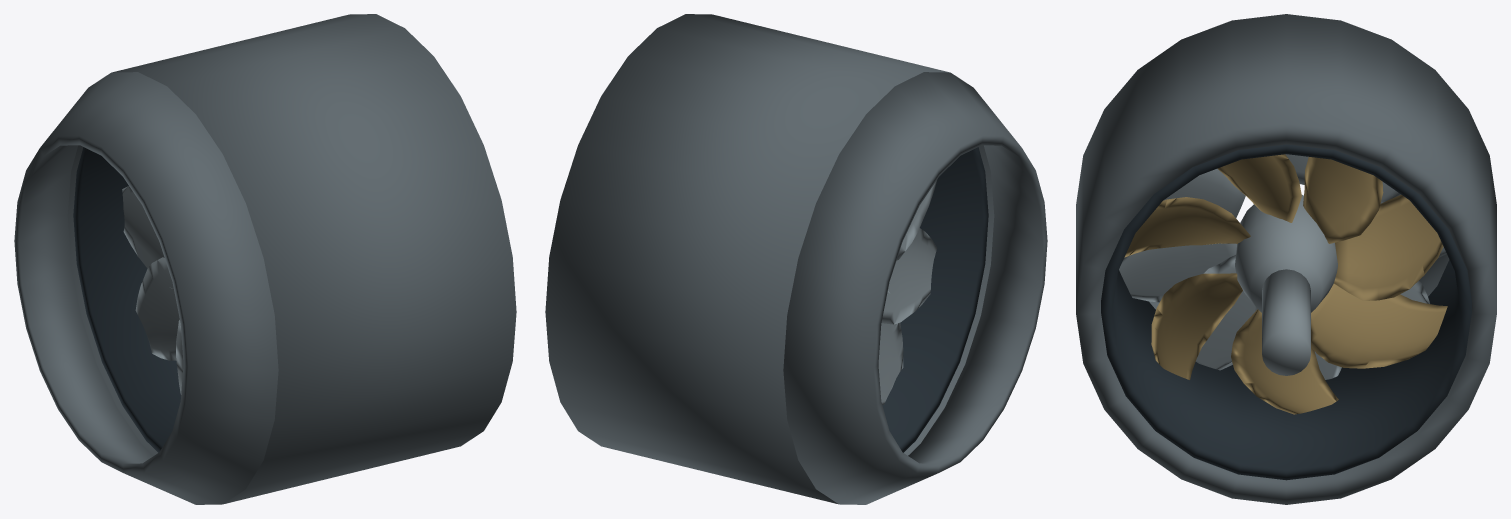
File: FR_PJ_Suffren_LOD1.fbx
3 views of the same model, side by side, from view 1: azimuth 30°, elevation 25°; view 2: azimuth 150°, elevation 25°; view 3: azimuth 270°, elevation 25° (orthographic). The views are drawn at different scales.
Visible parts, largest first — view 1: FR_PJ_Suffren_LOD1_Housing.001, FR_PJ_Suffren_LOD1_Nozzle.001, FR_PJ_Suffren_LOD1_Lining.001, FR_PJ_Suffren_LOD1_Stator_08.001, FR_PJ_Suffren_LOD1_Stator_00.001; view 2: FR_PJ_Suffren_LOD1_Housing.001, FR_PJ_Suffren_LOD1_Nozzle.001, FR_PJ_Suffren_LOD1_Lining.001, FR_PJ_Suffren_LOD1_Stator_05.001, FR_PJ_Suffren_LOD1_Stator_06.001, FR_PJ_Suffren_LOD1_Stator_04.001; view 3: FR_PJ_Suffren_LOD1_Housing.001, FR_PJ_Suffren_LOD1_Lining.001, FR_PJ_Suffren_LOD1_Rotor_06.001, FR_PJ_Suffren_LOD1_Rotor_00.001, FR_PJ_Suffren_LOD1_Hub.001, FR_PJ_Suffren_LOD1_Rotor_04.001, FR_PJ_Suffren_LOD1_Rotor_01.001, FR_PJ_Suffren_LOD1_Shaft.001, FR_PJ_Suffren_LOD1_Rotor_05.001, FR_PJ_Suffren_LOD1_Rotor_03.001, FR_PJ_Suffren_LOD1_Stator_05.001, FR_PJ_Suffren_LOD1_Rotor_02.001 (+3 smaller).
Part boxes in pixels (bbox=[...]): FR_PJ_Suffren_LOD1_Housing.001: bbox=[67, 14, 516, 504]; FR_PJ_Suffren_LOD1_Nozzle.001: bbox=[14, 72, 278, 504]; FR_PJ_Suffren_LOD1_Lining.001: bbox=[73, 147, 180, 452]; FR_PJ_Suffren_LOD1_Stator_08.001: bbox=[135, 257, 179, 360]; FR_PJ_Suffren_LOD1_Stator_00.001: bbox=[122, 186, 173, 289]; FR_PJ_Suffren_LOD1_Housing.001: bbox=[545, 14, 994, 504]; FR_PJ_Suffren_LOD1_Nozzle.001: bbox=[783, 72, 1047, 504]; FR_PJ_Suffren_LOD1_Lining.001: bbox=[882, 147, 988, 452]; FR_PJ_Suffren_LOD1_Stator_05.001: bbox=[881, 228, 936, 324]; FR_PJ_Suffren_LOD1_Stator_06.001: bbox=[878, 290, 903, 404]; FR_PJ_Suffren_LOD1_Stator_04.001: bbox=[896, 179, 937, 260]; FR_PJ_Suffren_LOD1_Housing.001: bbox=[1076, 14, 1496, 504]; FR_PJ_Suffren_LOD1_Lining.001: bbox=[1101, 144, 1471, 480]; FR_PJ_Suffren_LOD1_Rotor_06.001: bbox=[1311, 283, 1447, 368]; FR_PJ_Suffren_LOD1_Rotor_00.001: bbox=[1334, 194, 1443, 300]; FR_PJ_Suffren_LOD1_Hub.001: bbox=[1235, 195, 1337, 312]; FR_PJ_Suffren_LOD1_Rotor_04.001: bbox=[1151, 273, 1242, 379]; FR_PJ_Suffren_LOD1_Rotor_01.001: bbox=[1303, 157, 1383, 243]; FR_PJ_Suffren_LOD1_Shaft.001: bbox=[1262, 269, 1310, 375]; FR_PJ_Suffren_LOD1_Rotor_05.001: bbox=[1231, 309, 1338, 414]; FR_PJ_Suffren_LOD1_Rotor_03.001: bbox=[1124, 197, 1250, 257]; FR_PJ_Suffren_LOD1_Stator_05.001: bbox=[1119, 243, 1236, 302]; FR_PJ_Suffren_LOD1_Rotor_02.001: bbox=[1217, 154, 1301, 222].
Bounding box in the file's own units: 534 × 530 × 530.
